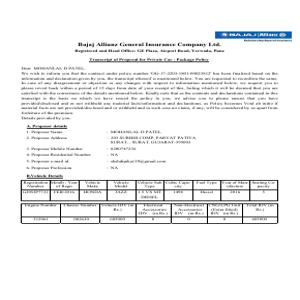table: (21, 204, 278, 224), (21, 182, 278, 199)
text: (16, 64, 280, 123), (23, 124, 200, 172), (75, 40, 226, 56)
